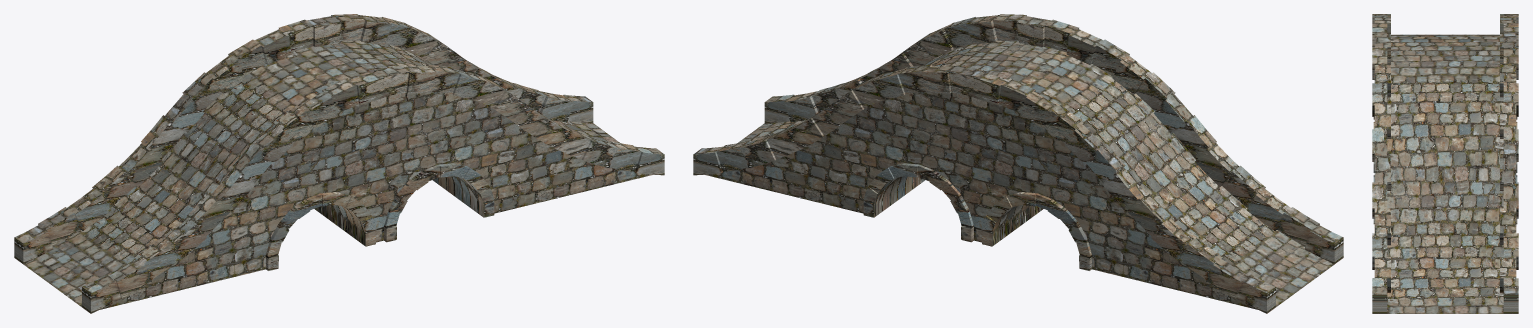
Rendered from BridgeStone.FBX.
The picture shows the model from 3 angles, left to right: view 1: azimuth 30°, elevation 25°; view 2: azimuth 150°, elevation 25°; view 3: azimuth 270°, elevation 25°; orthographic projection. The views are drawn at different scales.
Parts seen in each view (by area): view 1: Bridge_Stone_Large_01; view 2: Bridge_Stone_Large_01; view 3: Bridge_Stone_Large_01.
Part boxes in pixels (bbox=[...]): Bridge_Stone_Large_01: bbox=[14, 14, 664, 313]; Bridge_Stone_Large_01: bbox=[693, 14, 1343, 313]; Bridge_Stone_Large_01: bbox=[1372, 14, 1518, 313].
Bounding box in the file's own units: 96.73 × 26.84 × 23.2.
